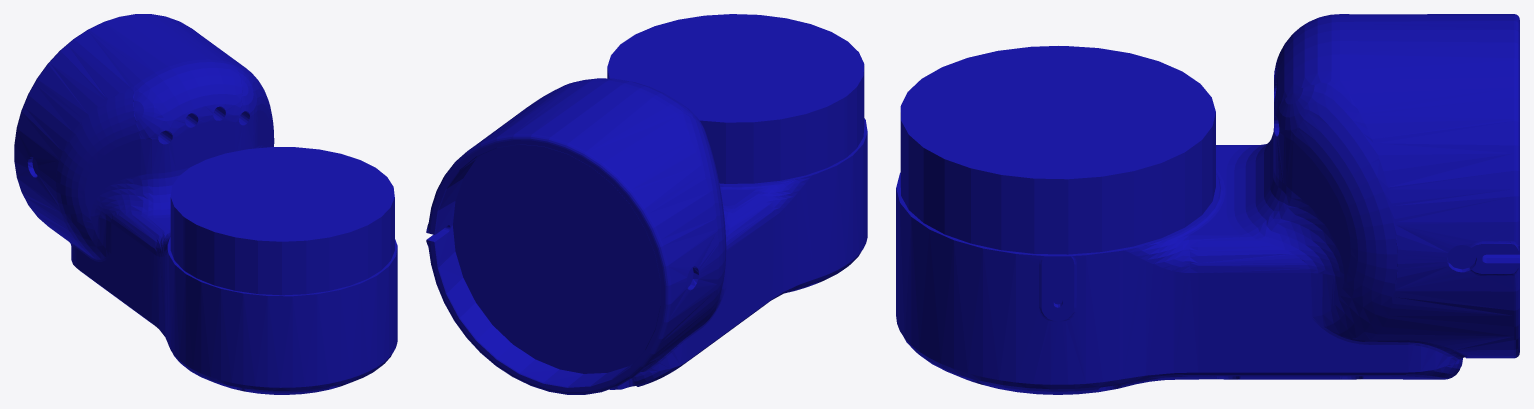
File: MOTOMAN_AXIS_E.dae
The picture shows the model from 3 angles, left to right: view 1: azimuth 30°, elevation 25°; view 2: azimuth 150°, elevation 25°; view 3: azimuth 270°, elevation 25°; orthographic projection. The views are drawn at different scales.
Visible parts, largest first — view 1: node; view 2: node; view 3: node.
Boxes of the visible parts, x1=… form: node: x1=14, y1=14, x2=397, y2=394; node: x1=426, y1=14, x2=867, y2=394; node: x1=896, y1=14, x2=1519, y2=394.
Bounding box in the file's own units: 0.1821 × 0.195 × 0.3296.
